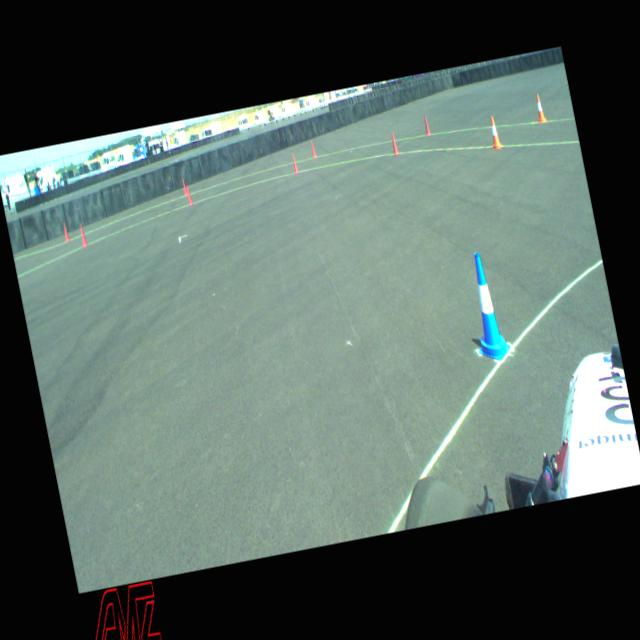blue_cone: (461, 250, 512, 364)
orange_cone: (487, 115, 502, 151), (532, 95, 546, 124)
